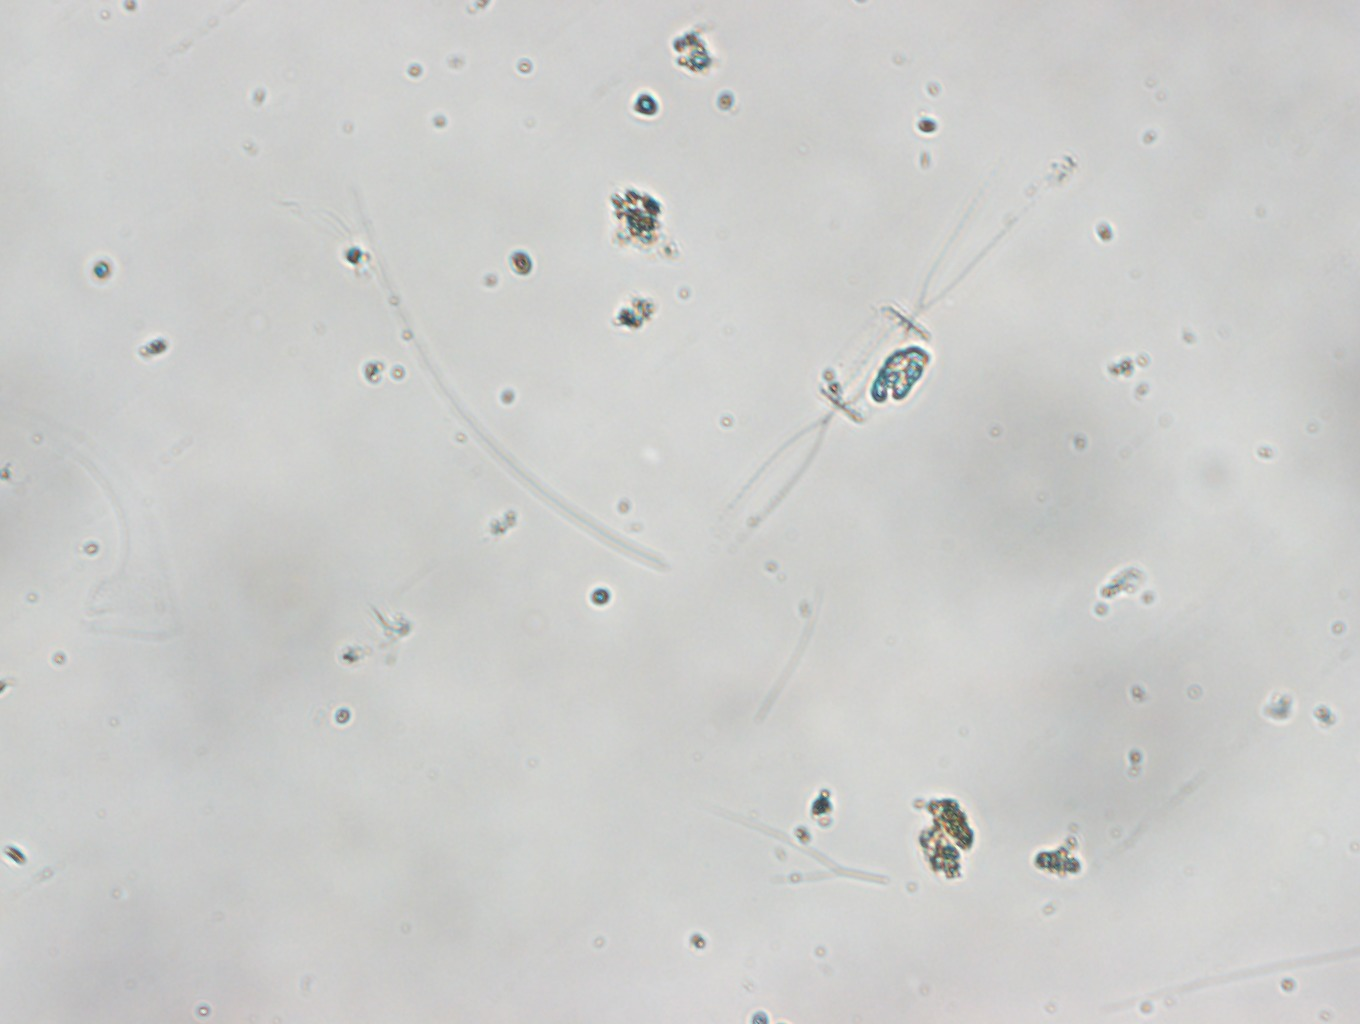chaetoceros: (728, 207, 1008, 530)
